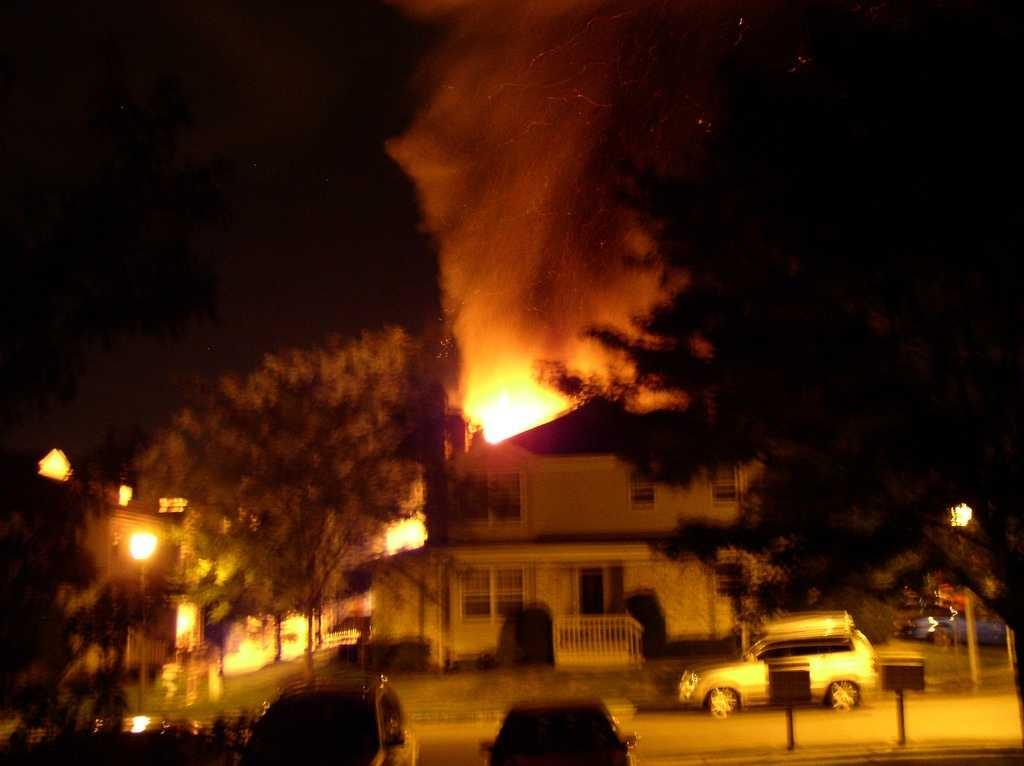fire: (476, 352, 558, 440)
smoke: (452, 10, 600, 318)
